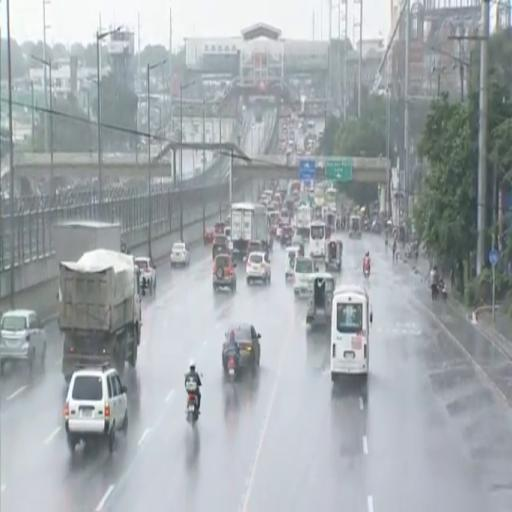car: (65, 365, 128, 453), (0, 310, 46, 374), (222, 324, 260, 373), (213, 252, 236, 292), (134, 258, 156, 295), (293, 258, 314, 296), (246, 252, 270, 284), (171, 243, 190, 266), (212, 234, 229, 259), (243, 240, 264, 259)
motorcycle: (186, 379, 199, 423), (187, 392, 198, 423), (226, 355, 238, 383), (439, 282, 447, 301), (431, 284, 439, 300), (141, 278, 148, 296), (363, 268, 370, 279)
truck: (58, 249, 141, 382), (52, 220, 121, 262), (231, 203, 269, 258), (295, 205, 312, 238)
